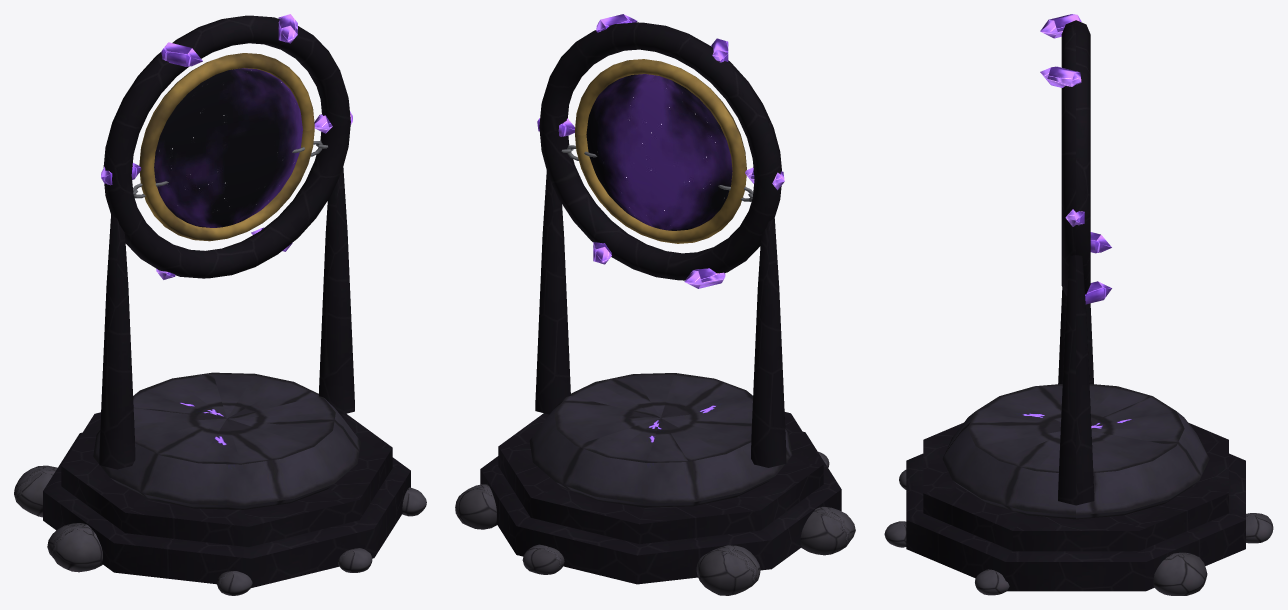
Rendered from riftbinder.glb.
3 renders of one model, left to right at view 1: azimuth 30°, elevation 25°; view 2: azimuth 150°, elevation 25°; view 3: azimuth 270°, elevation 25°, orthographic.
Visible parts, largest first — view 1: Base, Turret; view 2: Base, Turret; view 3: Base, Turret.
Part boxes in pixels (x1,y1,x2,y2): Base: (14,117,426,595); Turret: (101,14,352,279); Base: (455,122,855,595); Turret: (537,14,784,288); Base: (884,157,1273,595); Turret: (1040,14,1111,304).
Size of the model in its own units: 0.9221 by 1.33 by 0.9316.
7 materials, 7 textured.
